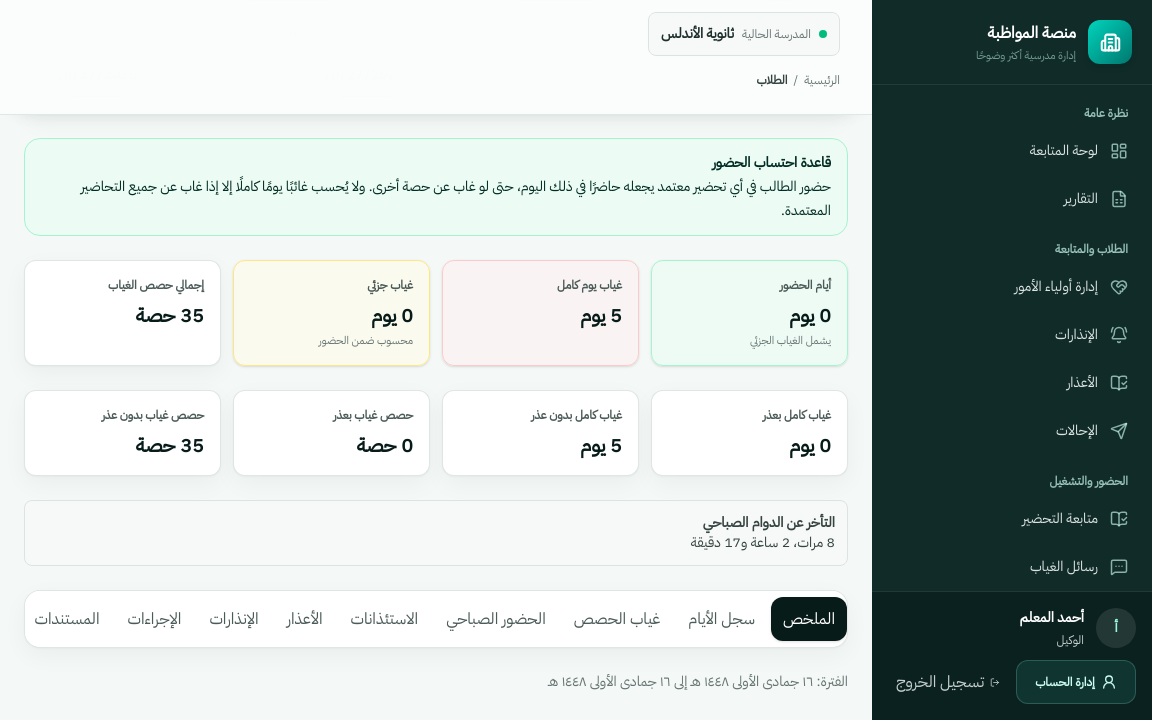
student actions tab (Phase 12) › lists actions with type, actor, and linked warning
(page scrolled)
Click the button "الإجراءات".
click(154, 619)  # box [116,597,193,641]
(page scrolled)
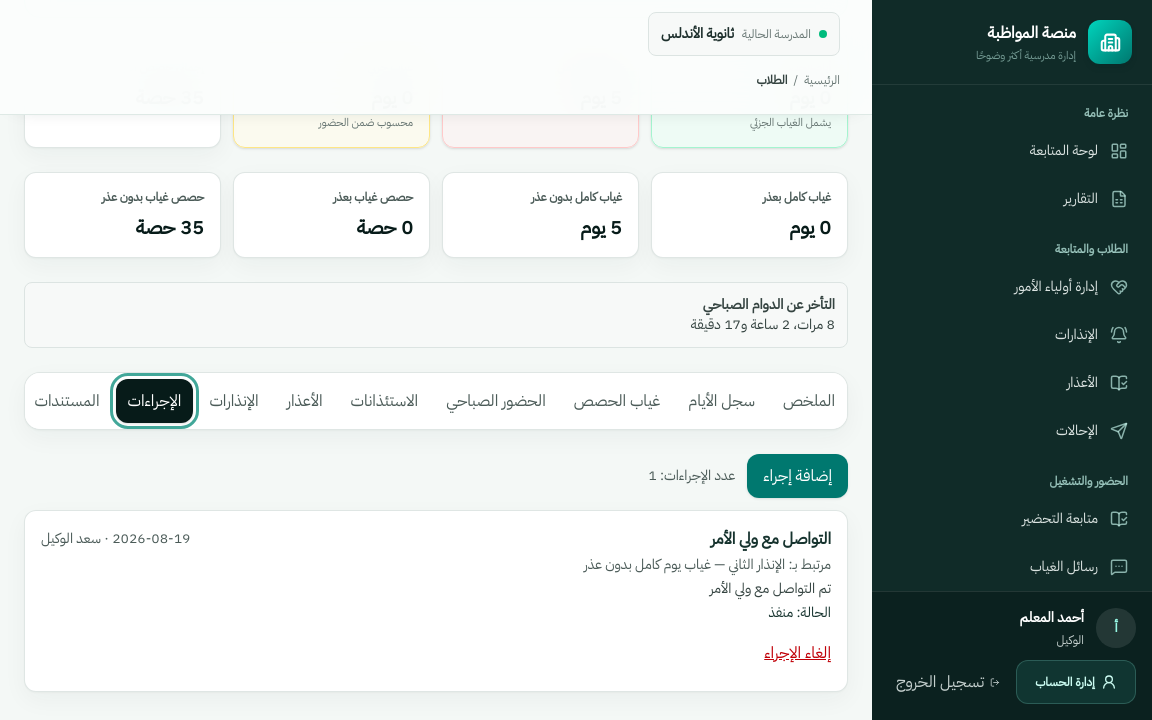
Now the list item with test id "action-31" shows "التواصل مع ولي الأمر", box [711,527,831,551]
Now the list item with test id "action-31" shows "سعد الوكيل", box [41,528,101,549]
Now the list item with test id "action-31" shows "الإنذار الثاني", box [584,554,785,575]
